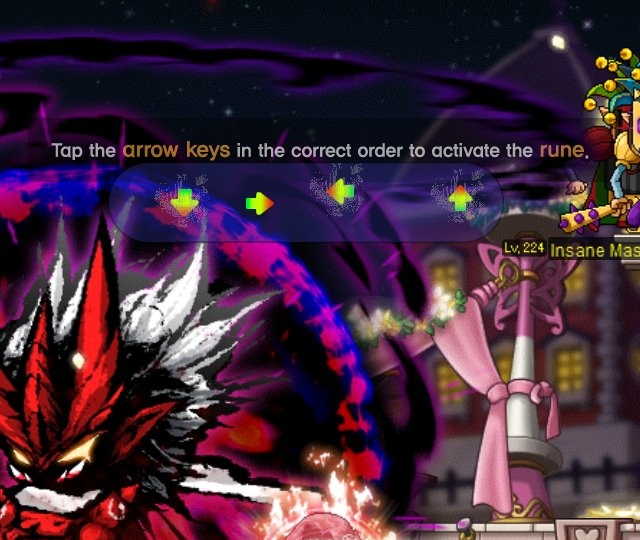down: (166, 184, 205, 221)
left: (319, 175, 359, 209)
right: (243, 186, 279, 221)
up: (442, 180, 477, 219)
